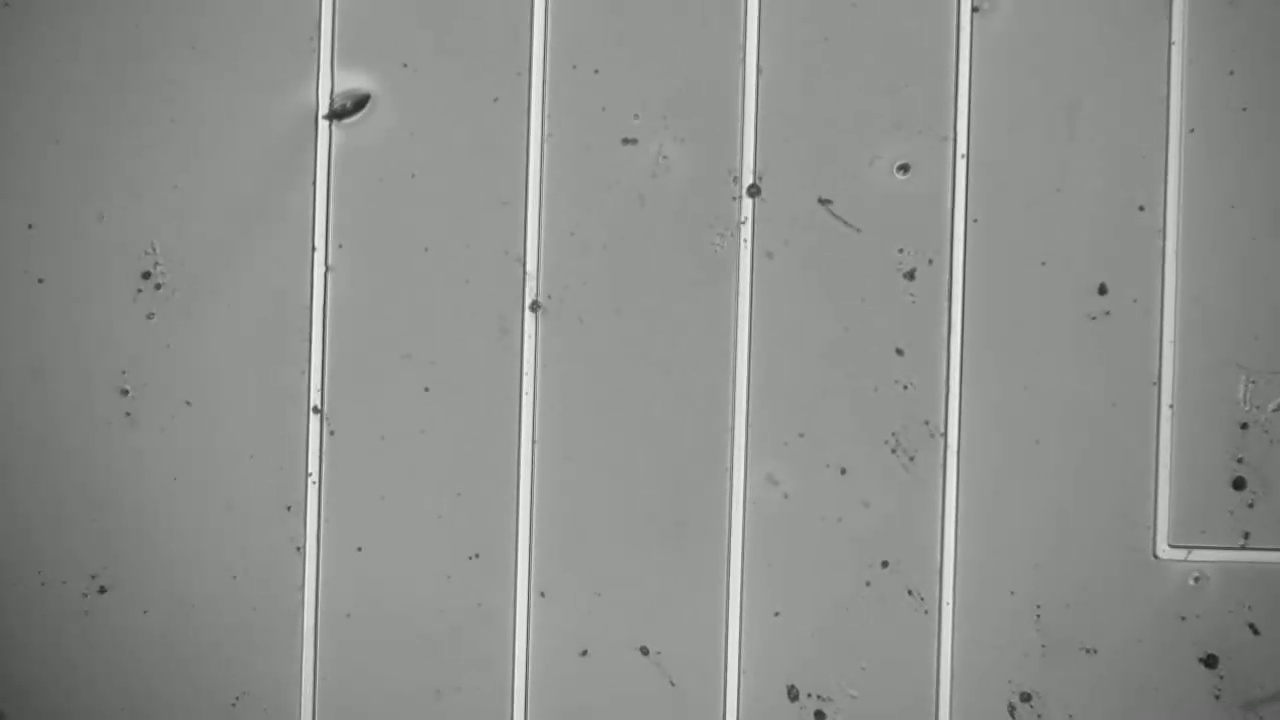stains_enbedded: (735, 179, 766, 206)
